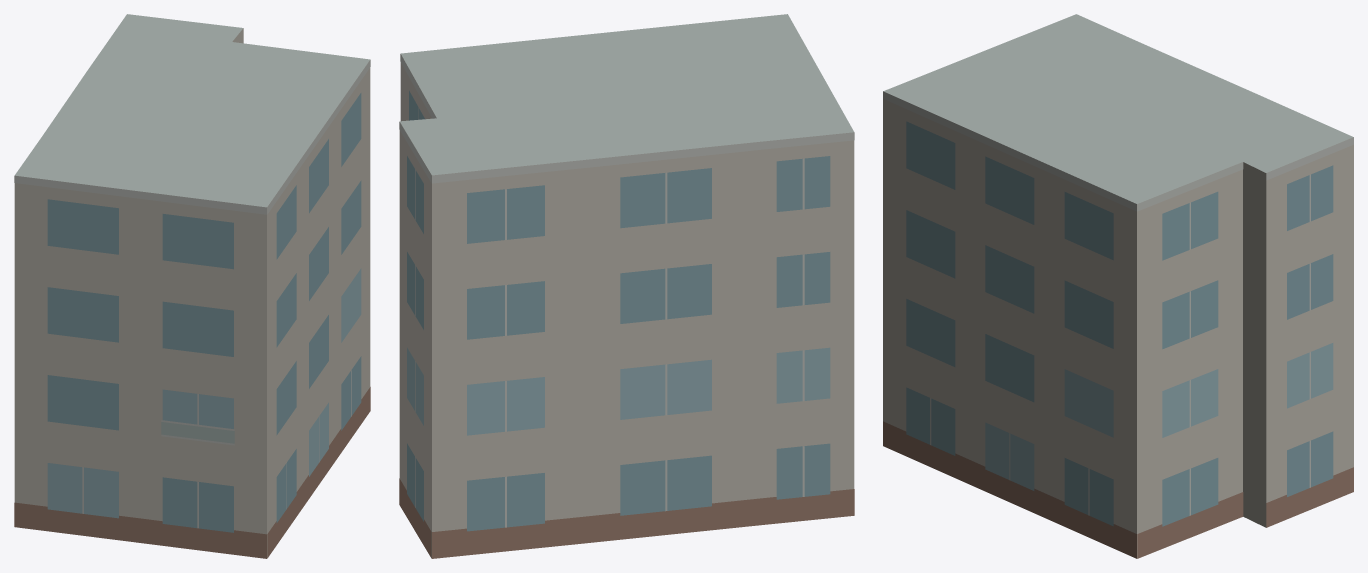
The model's file is survey-upis-32534659.glb.
The picture shows the model from 3 angles, left to right: view 1: azimuth 30°, elevation 25°; view 2: azimuth 150°, elevation 25°; view 3: azimuth 270°, elevation 25°; orthographic projection. The views are drawn at different scales.
Parts seen in each view (by area): view 1: survey-upis-32534659.tmp; view 2: survey-upis-32534659.tmp; view 3: survey-upis-32534659.tmp.
Part boxes in pixels (x1,y1,x2,y2): survey-upis-32534659.tmp: (14,14,370,558); survey-upis-32534659.tmp: (399,14,854,558); survey-upis-32534659.tmp: (883,14,1353,558).
Size of the model in its own units: 13.23 by 11.5 by 13.84.
